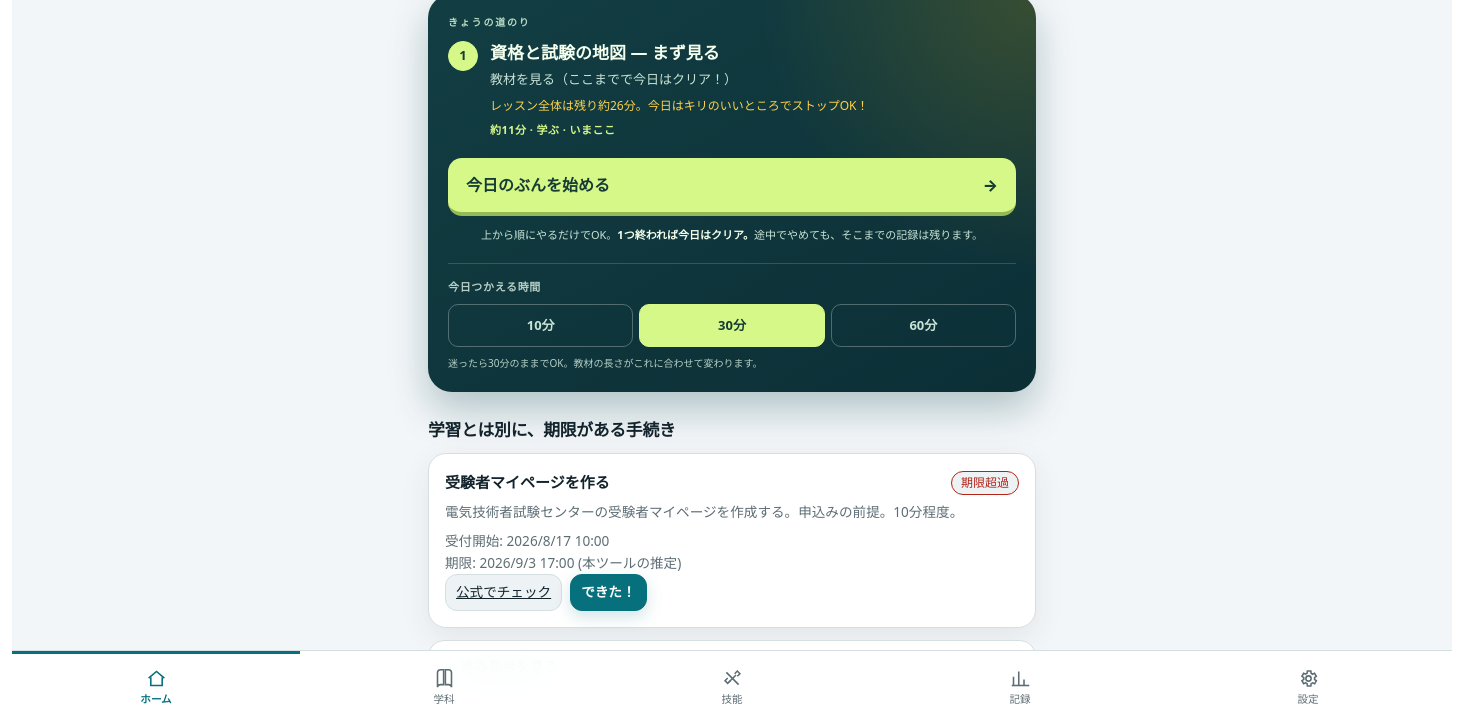
Scenario: 技能: 反復欠陥から抜け出せる › 同じ欠陥を2回出しても、部分練習を記録すればゲートが再び開く
Click the button "技能". click: click(732, 687)
box: [588, 651, 876, 721]
(page scrolled)
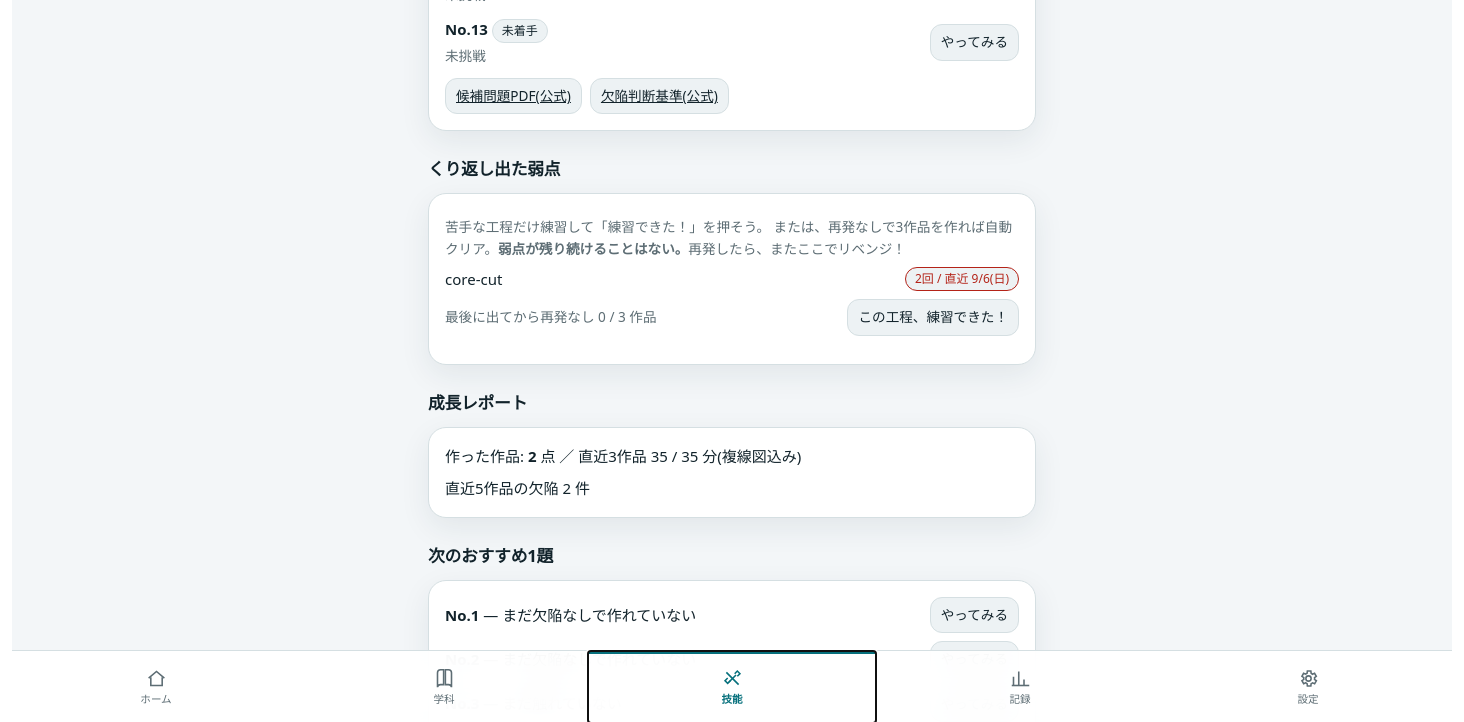
Click the button with aria-label "の部分練習を記録". click: click(933, 318)
box: [848, 299, 1019, 336]
(page scrolled)
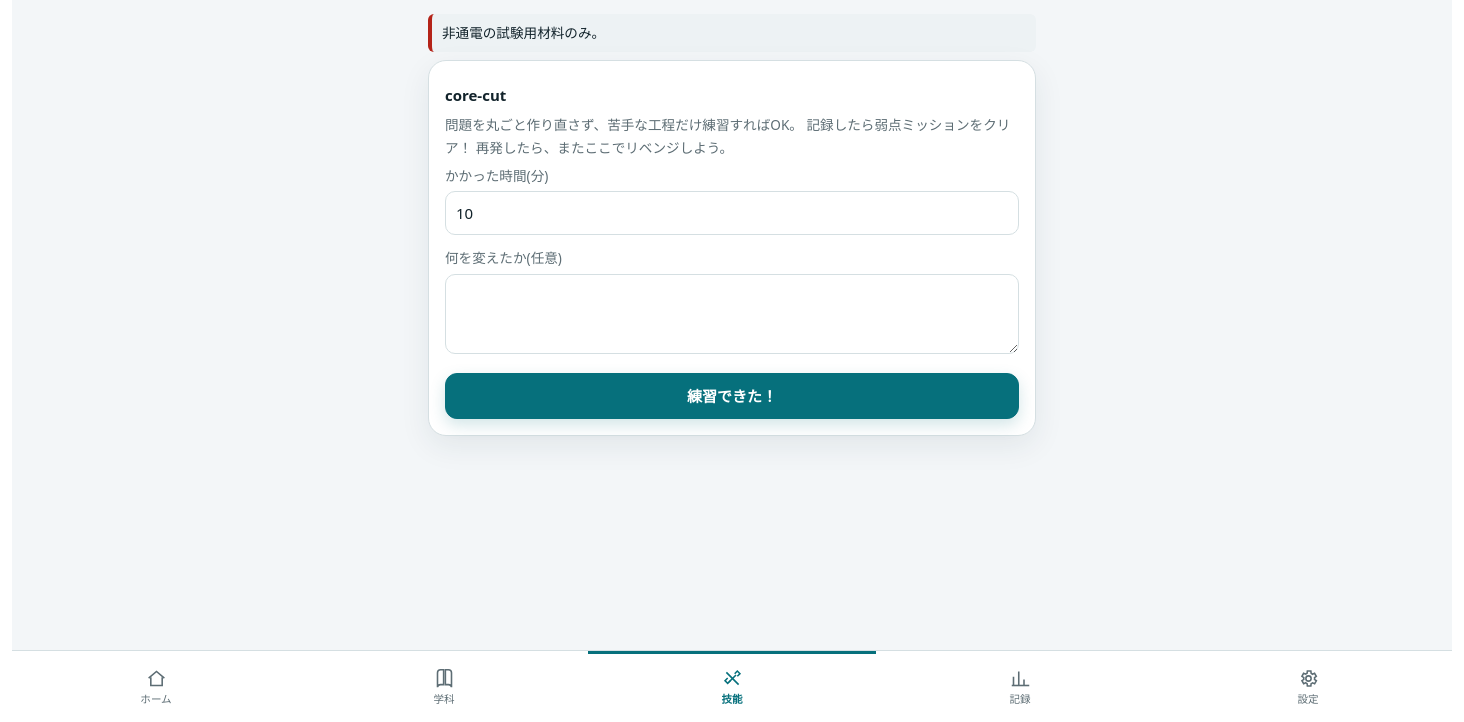
Click the button "練習できた！". click: click(732, 396)
box: [445, 373, 1019, 420]
(page scrolled)
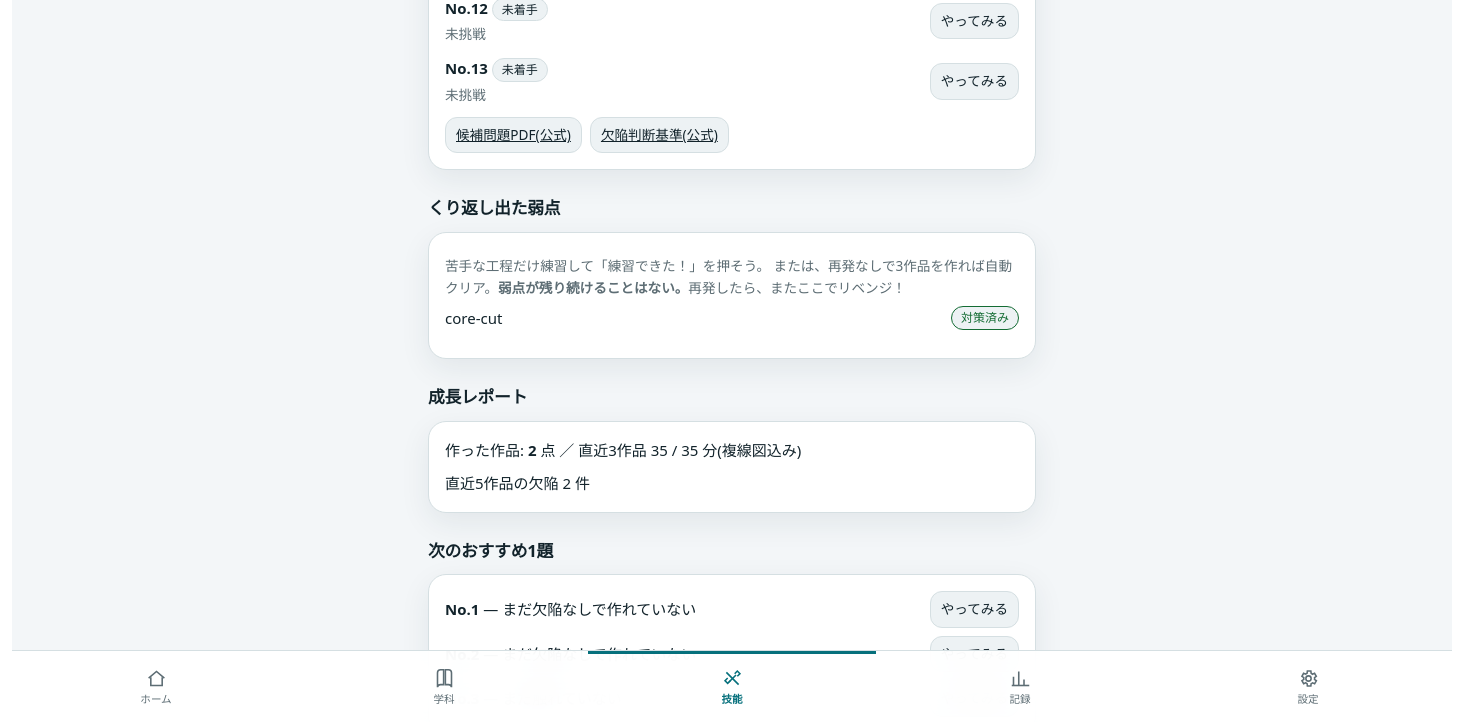
Check: the text "対策済み" is shown, box [951, 306, 1019, 330]
